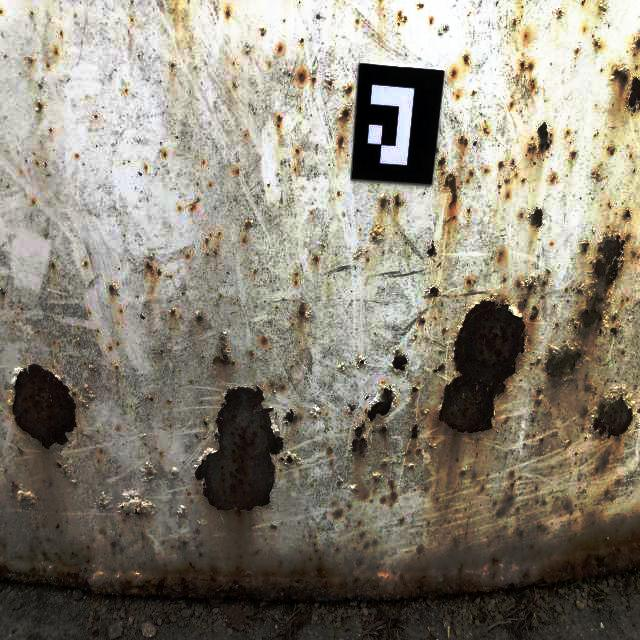Corrosion: (0, 509, 640, 602), (434, 294, 531, 441), (544, 231, 631, 389), (193, 384, 288, 519), (8, 363, 91, 455), (580, 386, 636, 442), (367, 382, 397, 441), (118, 489, 152, 524), (8, 479, 42, 509), (526, 120, 553, 156), (212, 333, 236, 369), (516, 274, 537, 311), (351, 419, 369, 461), (625, 74, 640, 115), (495, 492, 515, 521), (56, 459, 77, 485), (388, 349, 408, 375), (278, 451, 302, 470), (444, 174, 457, 209), (610, 66, 630, 87), (529, 207, 543, 229), (96, 495, 113, 512), (284, 407, 300, 425), (169, 539, 190, 552), (142, 463, 158, 480), (108, 540, 124, 557), (339, 103, 352, 122), (387, 480, 398, 501), (426, 239, 438, 258), (632, 33, 640, 58), (424, 286, 440, 298), (541, 269, 551, 288), (528, 304, 539, 321), (410, 422, 420, 440), (415, 541, 424, 559), (371, 227, 381, 243), (433, 362, 445, 374), (379, 194, 387, 212), (297, 68, 306, 83), (411, 381, 420, 396), (515, 527, 524, 542), (581, 240, 590, 254), (458, 135, 468, 147), (398, 10, 407, 23), (250, 549, 261, 559), (623, 207, 632, 219), (298, 304, 305, 319), (196, 311, 204, 324), (43, 479, 53, 489), (570, 149, 578, 161), (394, 194, 401, 207), (99, 526, 108, 536), (260, 335, 268, 346), (438, 156, 446, 167), (589, 383, 597, 394), (528, 78, 535, 90), (538, 525, 547, 534), (551, 172, 559, 182), (338, 135, 344, 148), (531, 359, 542, 366), (509, 471, 516, 482), (605, 491, 612, 502), (415, 2, 424, 10), (593, 40, 601, 49), (381, 461, 389, 470), (357, 358, 366, 366), (524, 30, 530, 42), (609, 145, 617, 154), (277, 114, 282, 128), (146, 262, 153, 272), (226, 6, 232, 17), (520, 60, 526, 71), (534, 399, 542, 407), (593, 169, 601, 177), (346, 84, 353, 93), (277, 43, 283, 53), (464, 54, 469, 66), (450, 69, 456, 79), (279, 383, 286, 391), (334, 511, 342, 518), (190, 202, 197, 210), (327, 448, 334, 456), (557, 8, 564, 16), (528, 60, 533, 71), (269, 524, 278, 530), (565, 128, 571, 137), (109, 285, 115, 294), (198, 549, 203, 559), (312, 256, 319, 263), (536, 389, 543, 396), (338, 364, 344, 372), (597, 466, 603, 474), (170, 308, 176, 316), (203, 418, 208, 427), (511, 483, 516, 492), (465, 279, 472, 285), (337, 481, 343, 488), (360, 533, 366, 540), (364, 543, 370, 550), (380, 498, 387, 504), (417, 449, 423, 456), (269, 380, 274, 388), (261, 28, 266, 36), (429, 16, 434, 24), (141, 532, 145, 542), (37, 102, 42, 110), (50, 262, 55, 270), (0, 288, 5, 296), (419, 318, 425, 324), (406, 450, 412, 456), (505, 178, 511, 184), (621, 298, 627, 304), (26, 56, 32, 62), (16, 448, 22, 454), (249, 350, 254, 357), (472, 140, 477, 147), (483, 126, 488, 133), (634, 63, 639, 70), (595, 129, 600, 136), (499, 251, 504, 258), (400, 518, 404, 526), (312, 77, 317, 83), (451, 214, 456, 220), (235, 168, 240, 174), (245, 222, 250, 228), (242, 236, 247, 242), (409, 465, 415, 470), (609, 202, 614, 208), (581, 426, 586, 432), (461, 471, 467, 476), (139, 315, 145, 320), (313, 549, 320, 553), (499, 161, 503, 168), (512, 19, 516, 26), (539, 437, 543, 444), (581, 0, 588, 4), (53, 47, 57, 54), (185, 253, 190, 258), (373, 541, 378, 546), (429, 444, 434, 449), (300, 37, 304, 43), (470, 170, 474, 176), (294, 280, 298, 286), (58, 30, 62, 36), (163, 150, 167, 156), (83, 260, 87, 266), (76, 340, 80, 346), (329, 79, 332, 86), (443, 327, 446, 334), (158, 269, 161, 276), (295, 148, 299, 153), (213, 249, 217, 254), (347, 505, 351, 510), (336, 549, 340, 554), (522, 178, 527, 182), (512, 159, 516, 164), (515, 173, 519, 178), (622, 351, 626, 356), (138, 171, 142, 176), (74, 153, 78, 158), (205, 238, 208, 244), (43, 160, 46, 166), (55, 524, 58, 530), (309, 556, 313, 560), (366, 410, 370, 414), (565, 288, 569, 292), (295, 271, 298, 276), (556, 323, 559, 328), (503, 277, 506, 282), (314, 543, 317, 547), (468, 208, 471, 212), (472, 90, 475, 94), (484, 169, 488, 172), (358, 522, 361, 526), (372, 431, 376, 434), (414, 335, 417, 338)
